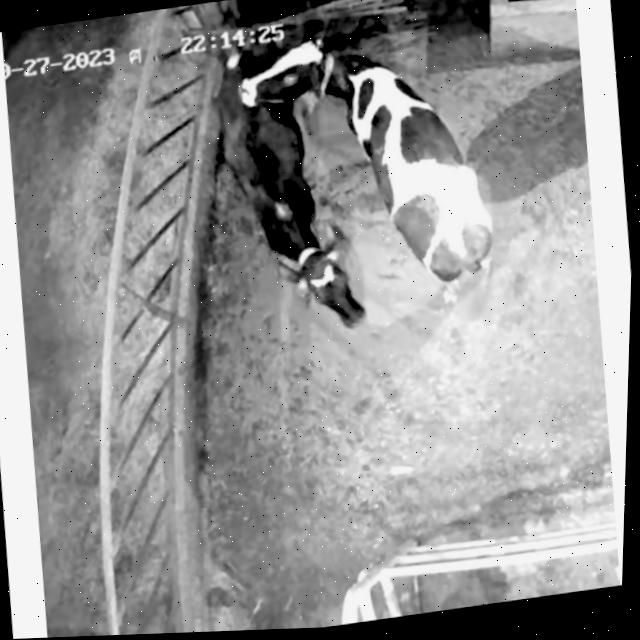propping: (206, 28, 377, 139)
